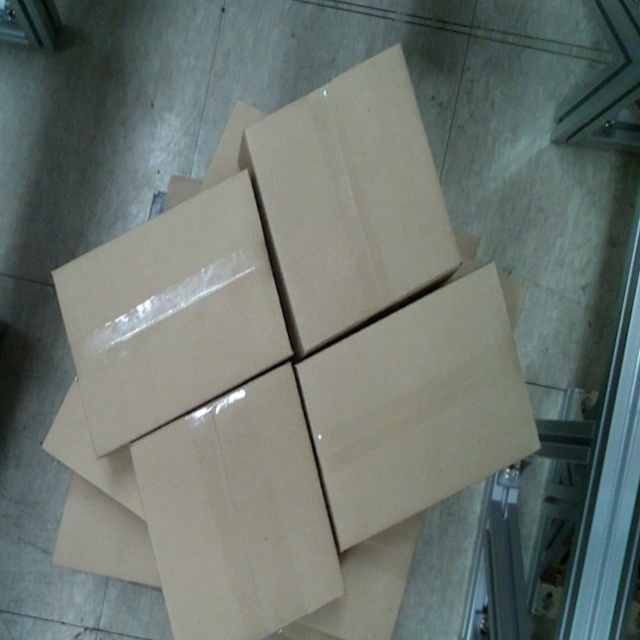box: (289, 256, 544, 554), (49, 164, 299, 458), (239, 38, 466, 354), (128, 357, 350, 636)
